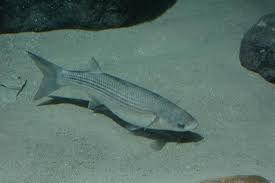Mullet: (26, 50, 202, 136)
